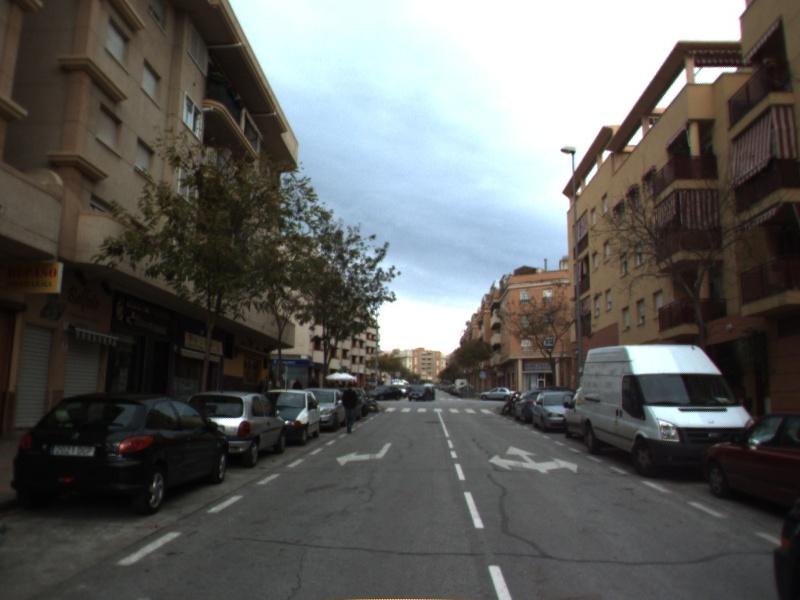STRAIGHT_LEFT_RIGHT: (487, 443, 580, 475)
